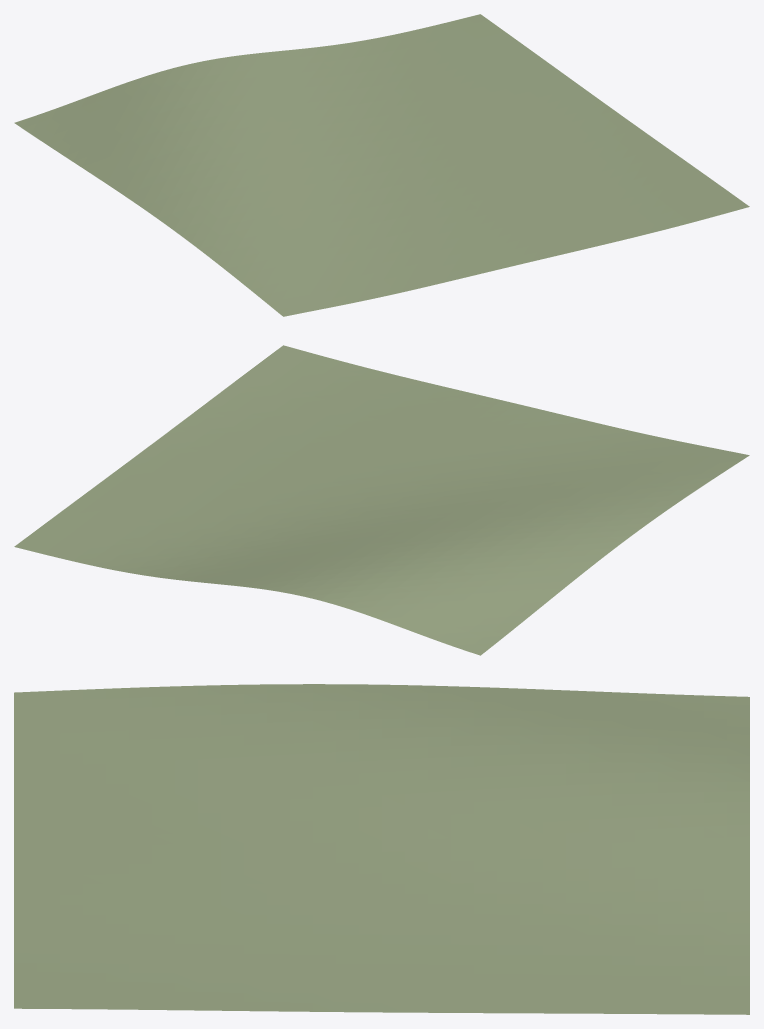
The model's file is desert-8-10.glb.
The picture shows the model from 3 angles, top to bottom: view 1: azimuth 30°, elevation 25°; view 2: azimuth 150°, elevation 25°; view 3: azimuth 270°, elevation 25°; orthographic projection. The views are drawn at different scales.
Parts seen in each view (by area): view 1: desert-8-10; view 2: desert-8-10; view 3: desert-8-10.
Part boxes in pixels (box(x1,y1,x2,y2)): desert-8-10: box(14, 14, 749, 316); desert-8-10: box(14, 345, 749, 655); desert-8-10: box(14, 684, 749, 1014).
Bounding box in the file's own units: 512 × 22.46 × 512.
